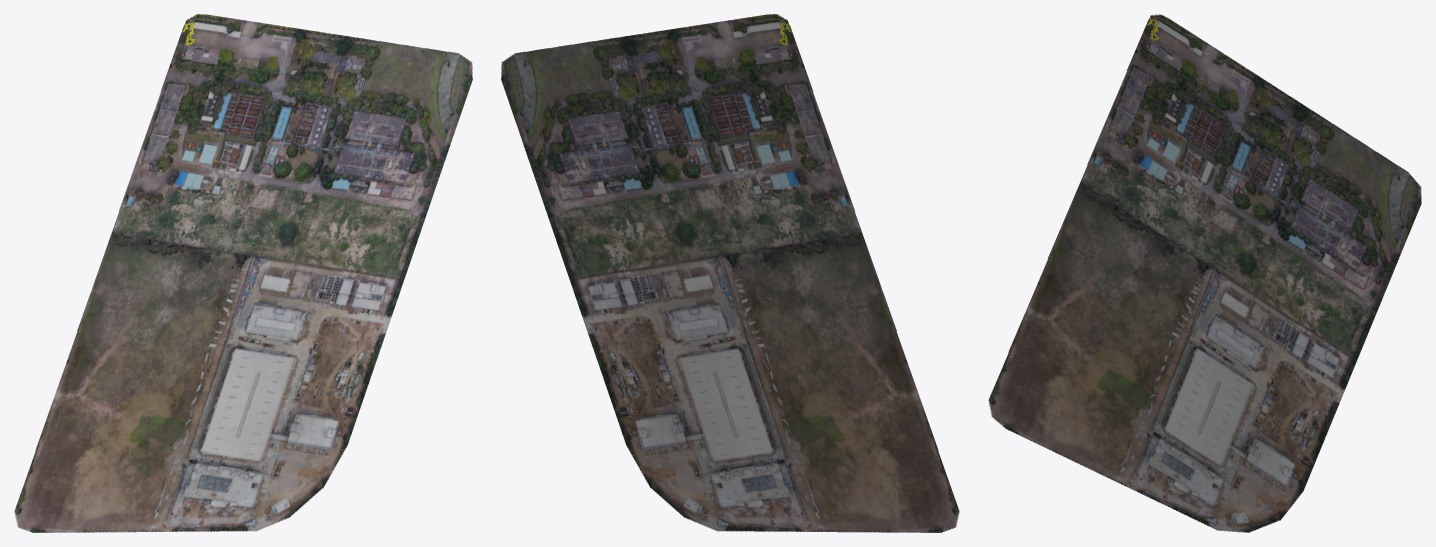
File: dixing04.fbx
The picture shows the model from 3 angles, left to right: view 1: azimuth 30°, elevation 25°; view 2: azimuth 150°, elevation 25°; view 3: azimuth 330°, elevation 25°; orthographic projection. The views are drawn at different scales.
Visible parts, largest first — view 1: dixing04; view 2: dixing04; view 3: dixing04.
Boxes of the visible parts, x1=… form: dixing04: x1=14, y1=14, x2=472, y2=532; dixing04: x1=501, y1=14, x2=959, y2=532; dixing04: x1=988, y1=14, x2=1421, y2=532.
Bounding box in the file's own units: 42998 × 47652 × 0.00776.
Materials: 1 (1 with a texture image).
